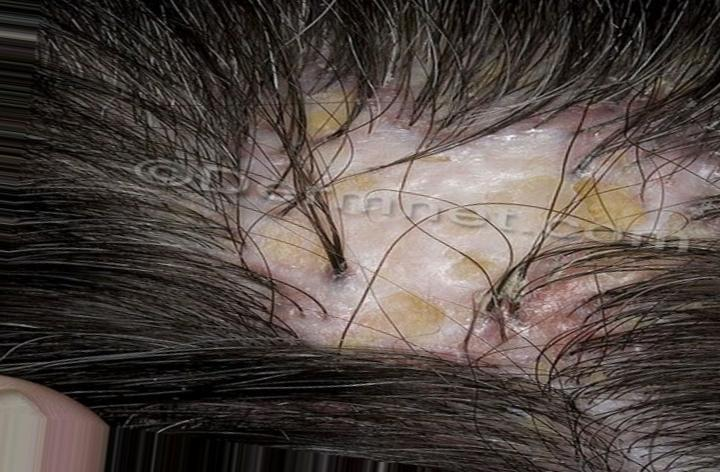Folliculitis: (263, 89, 649, 368)
